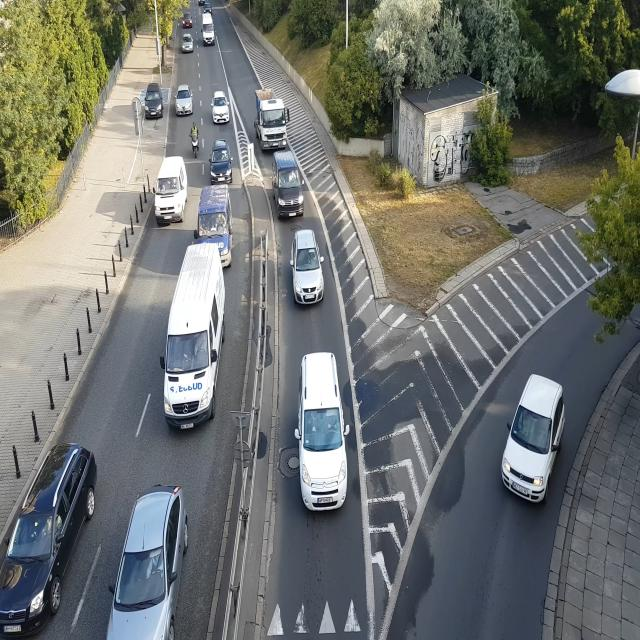car: (3, 434, 97, 640), (108, 476, 192, 640), (158, 243, 228, 424), (496, 368, 566, 507), (295, 356, 349, 518), (194, 176, 235, 264), (289, 229, 328, 310), (151, 159, 191, 224), (270, 149, 306, 221), (141, 81, 167, 121), (208, 91, 232, 127), (174, 80, 195, 117), (200, 11, 217, 47), (181, 34, 195, 55), (182, 13, 194, 30), (204, 3, 212, 15), (196, 0, 204, 8)
motorcycle: (187, 122, 202, 157)
truck: (252, 87, 291, 150)
